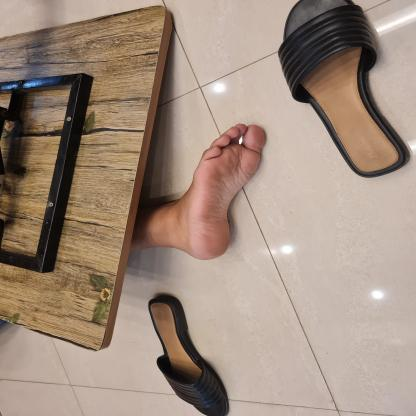leg: (134, 115, 278, 267)
